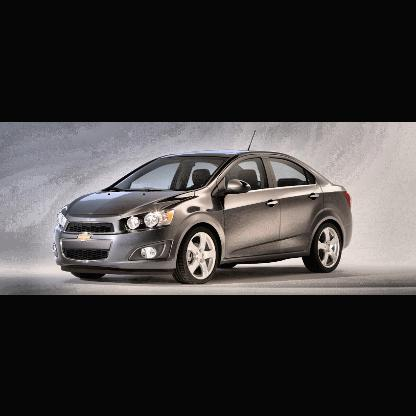Chevrolet Sonic Sedan 2012: (52, 151, 352, 284)
